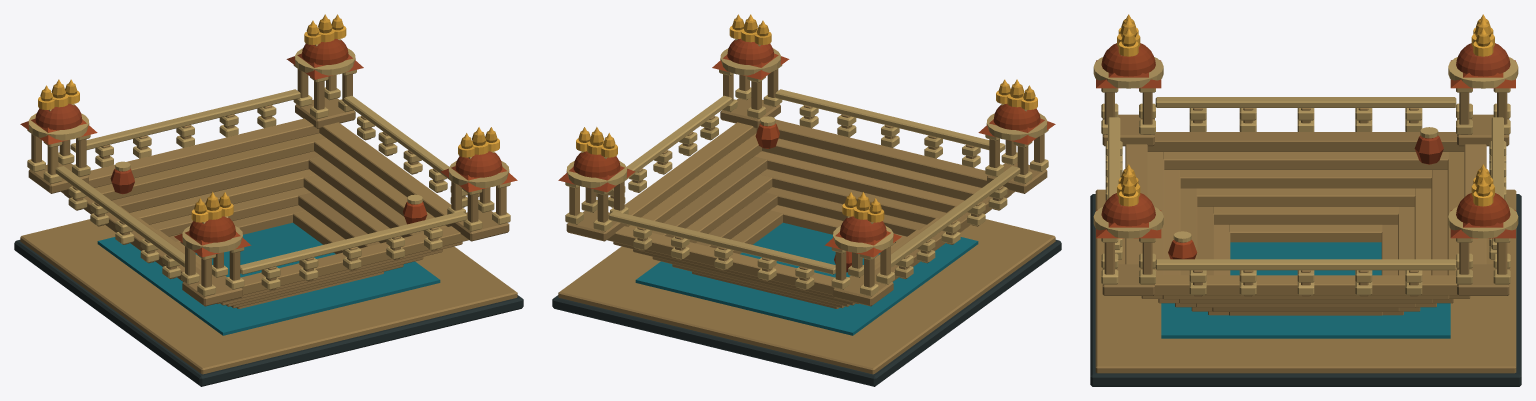
The model's file is stepwell.glb.
3 views of the same model, side by side, from view 1: azimuth 30°, elevation 25°; view 2: azimuth 150°, elevation 25°; view 3: azimuth 270°, elevation 25° (orthographic). The views are drawn at different scales.
Parts seen in each view (by area): view 1: stepwell_structure, stepwell_brass; view 2: stepwell_structure, stepwell_brass; view 3: stepwell_structure, stepwell_brass.
Part boxes in pixels (x1,y1,x2,y2): stepwell_structure: [14, 18, 523, 386]; stepwell_brass: [38, 14, 499, 222]; stepwell_structure: [552, 18, 1061, 386]; stepwell_brass: [576, 14, 1037, 222]; stepwell_structure: [1090, 19, 1521, 386]; stepwell_brass: [1117, 14, 1494, 206].
Bounding box in the file's own units: 5.6 × 2.93 × 5.6.
